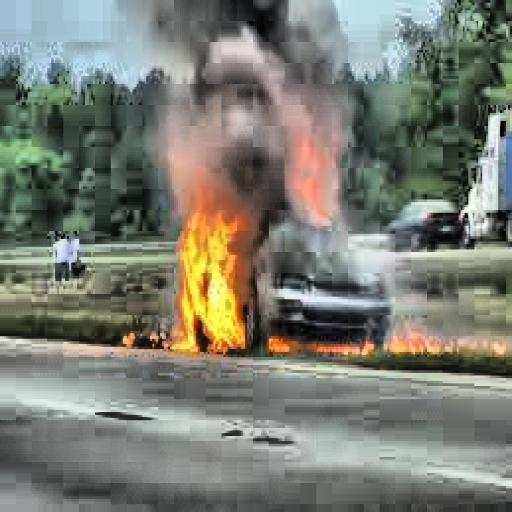fire: (166, 176, 259, 360), (273, 126, 348, 236)
